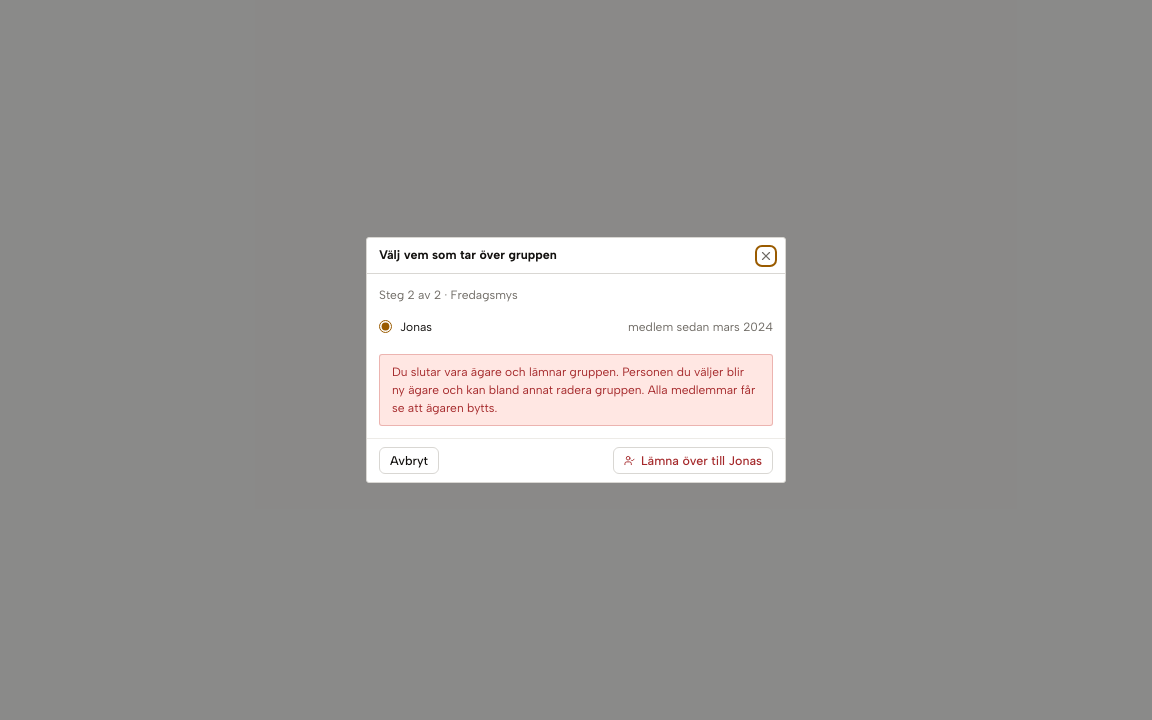
it: HandOverGroupDialog › visar serverns egen vägran ordagrant och stänger inte
The image size is (1152, 720).
Click the button "Lämna över till Jonas".
click(693, 460)  # box [613,447,773,474]
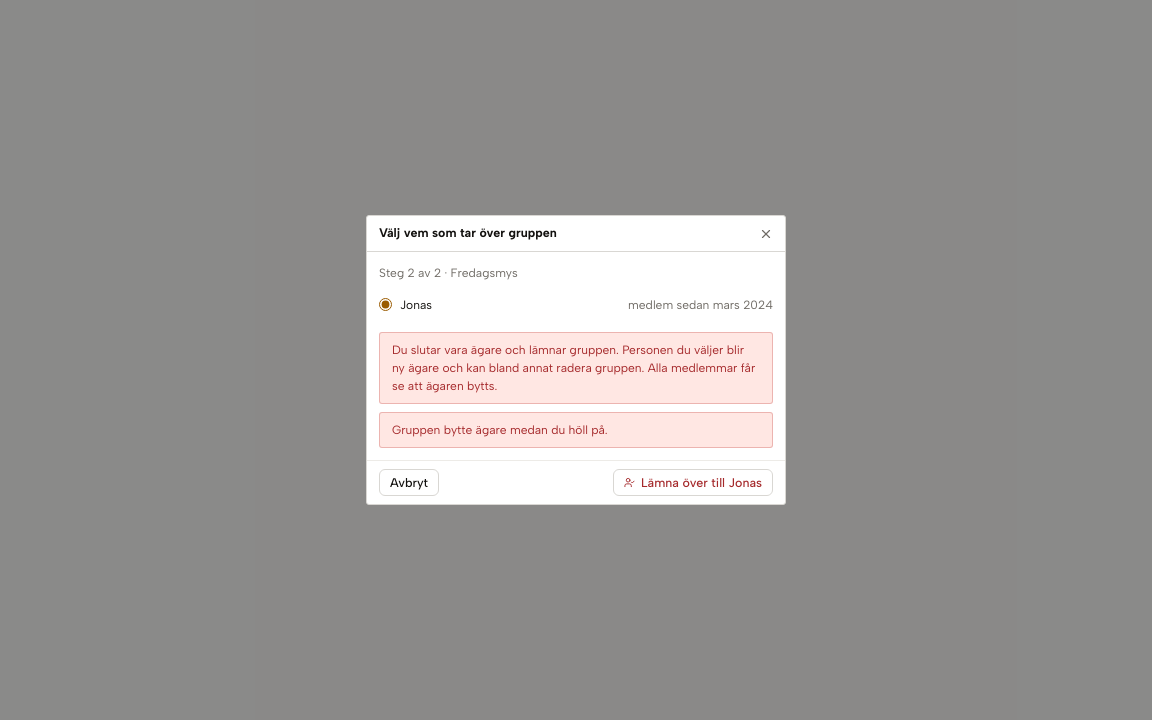
Expected: the text "Gruppen bytte ägare medan du höll på." is shown, [379,412,773,448]
